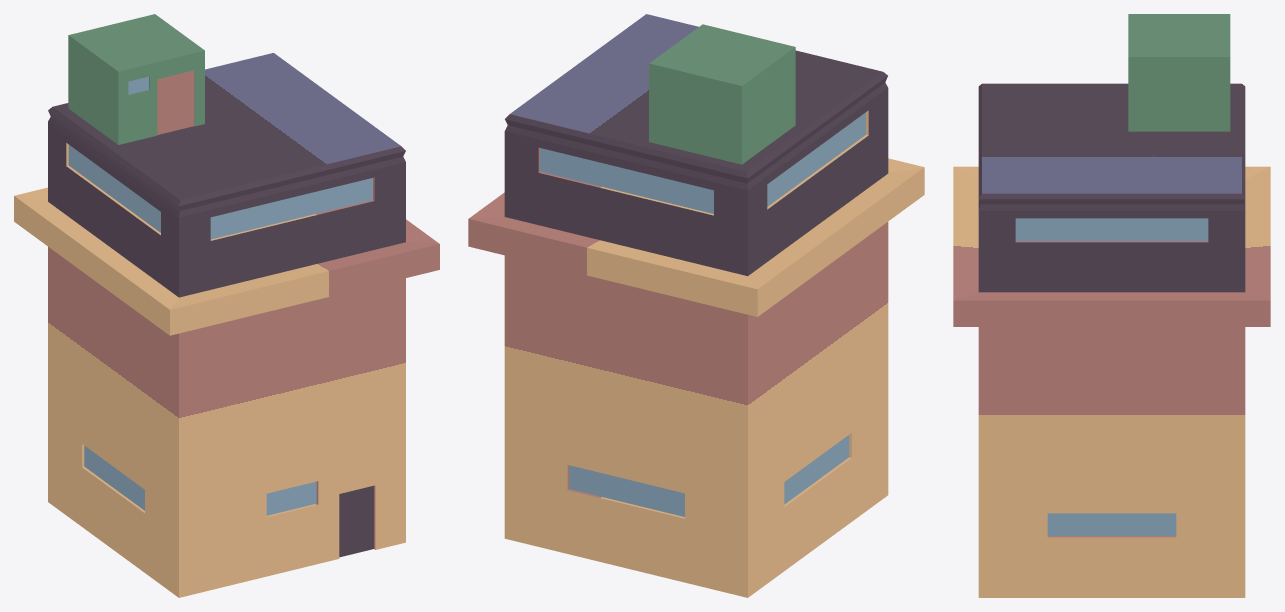
The model's file is Building3-TallAltModel.glb.
The picture shows the model from 3 angles, left to right: view 1: azimuth 30°, elevation 25°; view 2: azimuth 150°, elevation 25°; view 3: azimuth 270°, elevation 25°; orthographic projection. The views are drawn at different scales.
Visible parts, largest first — view 1: Cube.012; view 2: Cube.012; view 3: Cube.012.
Boxes of the visible parts, bbox=[...] form: Cube.012: bbox=[14, 14, 439, 597]; Cube.012: bbox=[468, 14, 924, 597]; Cube.012: bbox=[953, 14, 1270, 597].
Size of the model in its own units: 4.62 by 7.68 by 4.62.
Materials: 1 (1 with a texture image).
